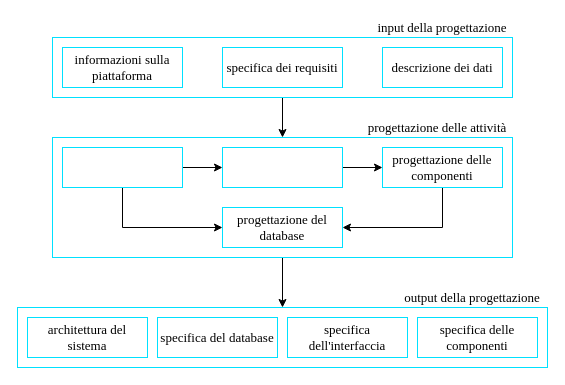
Image size: 565x385. Some labels were removed from this diagram. Each missing label, with the centre of its shape:
"progettazione architetturale" belongs at pixel 122 167.
"progettazione interfaccia" belongs at pixel 282 167.
